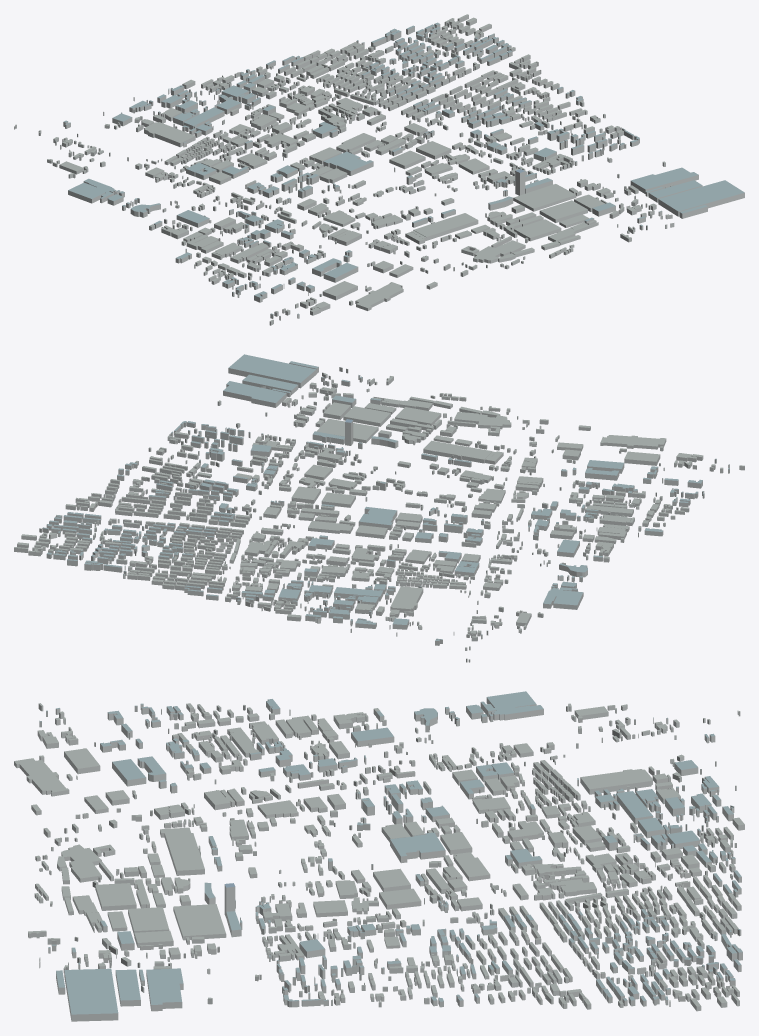
3 renders of one model, top to bottom at view 1: azimuth 30°, elevation 25°; view 2: azimuth 150°, elevation 25°; view 3: azimuth 270°, elevation 25°, orthographic. The views are drawn at different scales.
Visible parts, largest first — view 1: 上海全域建筑分块 · mapped building neighborhood; view 2: 上海全域建筑分块 · mapped building neighborhood; view 3: 上海全域建筑分块 · mapped building neighborhood.
Boxes of the visible parts, x1,y1,x2,y2 form: 上海全域建筑分块 · mapped building neighborhood: [14, 14, 744, 325]; 上海全域建筑分块 · mapped building neighborhood: [14, 354, 744, 662]; 上海全域建筑分块 · mapped building neighborhood: [14, 691, 744, 1021].
Size of the model in its own units: 2285 by 99.99 by 2176.
